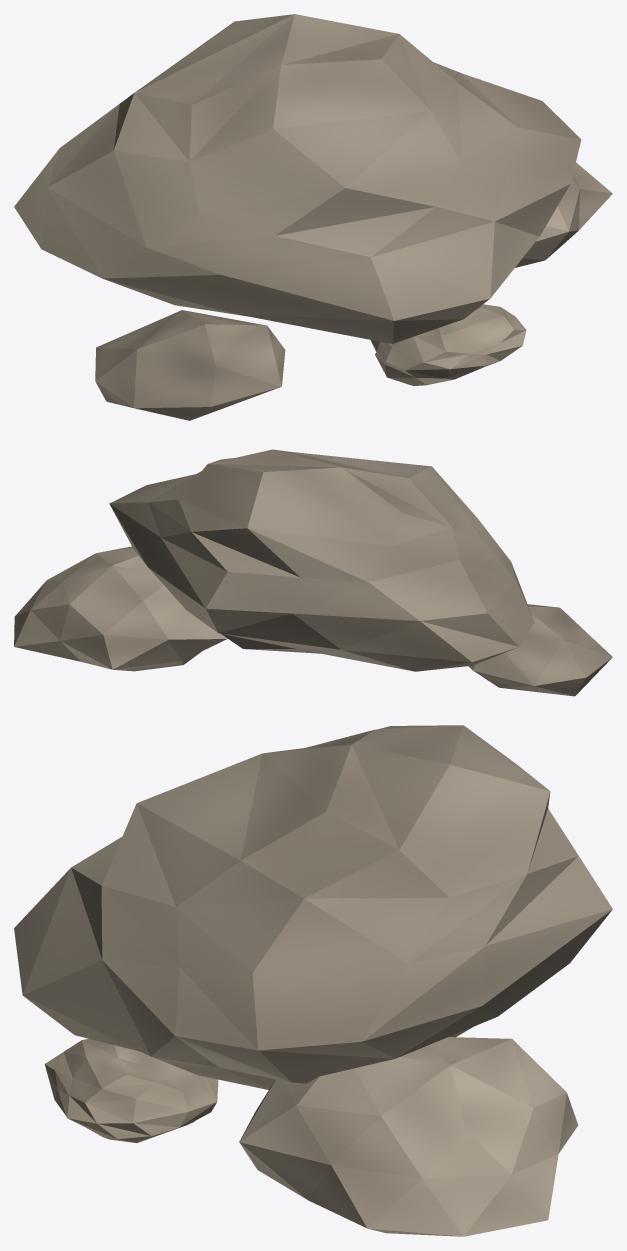
The model's file is rock-lava-transition-chips.glb.
3 renders of one model, top to bottom at view 1: azimuth 30°, elevation 25°; view 2: azimuth 150°, elevation 25°; view 3: azimuth 270°, elevation 25°, orthographic. The views are drawn at different scales.
Size of the model in its own units: 0.784 by 0.3511 by 0.558.
4 materials, 4 textured.
